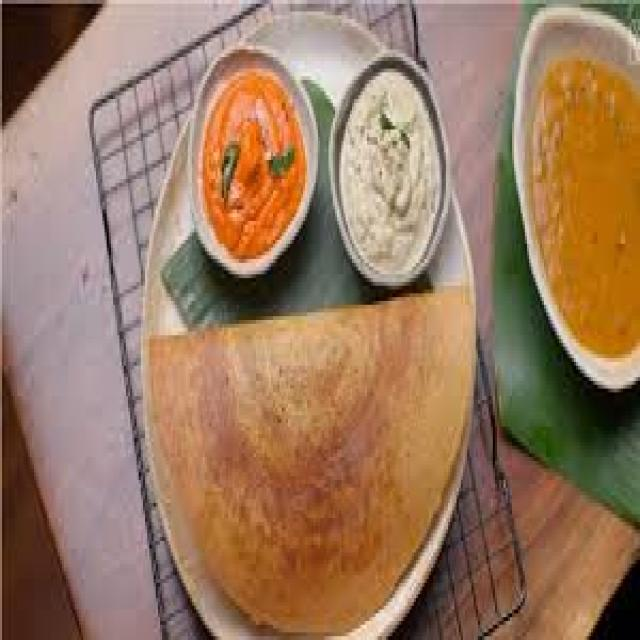DOSA: (149, 287, 470, 632)
